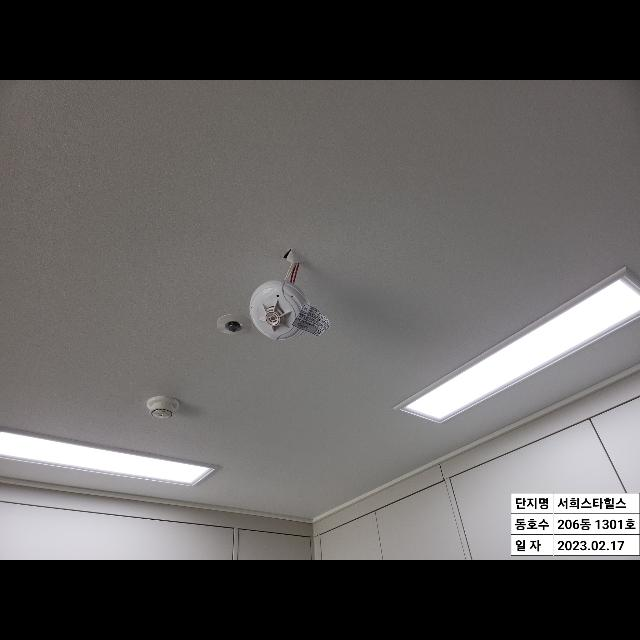Smoke-Detector: (250, 281, 310, 341), (146, 396, 180, 419)
